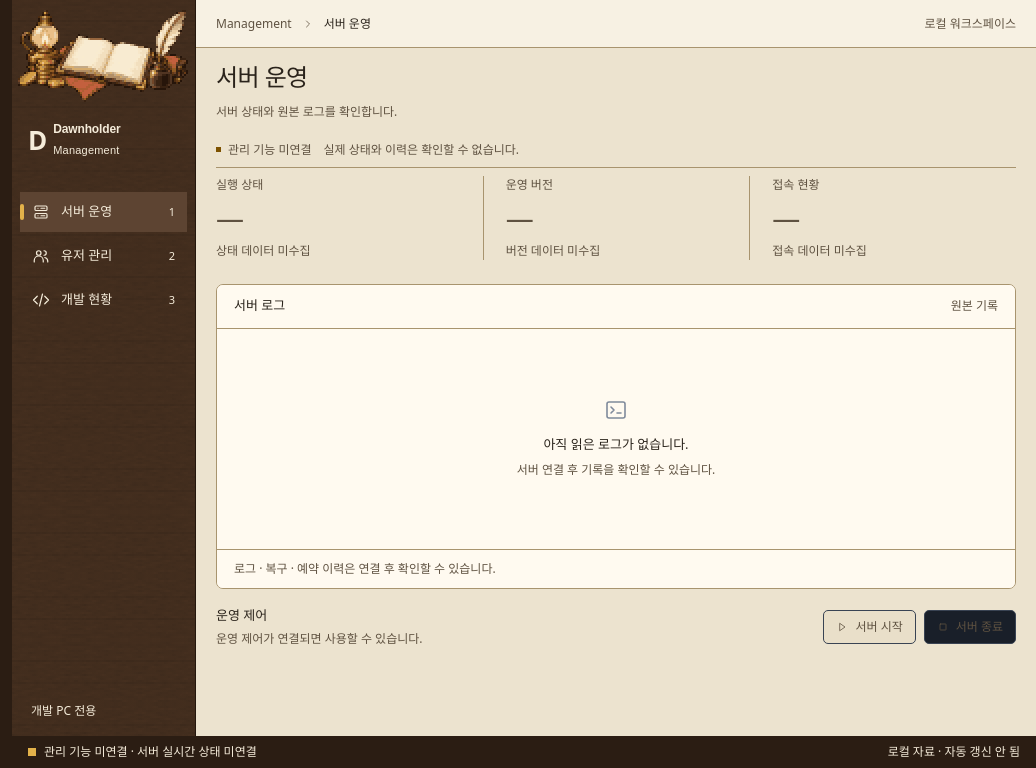
development backlog tab › shows the backlog screen under the third development tab 이후 작업
Click the button "3 개발 현황": (104, 300) [20,280,187,320]
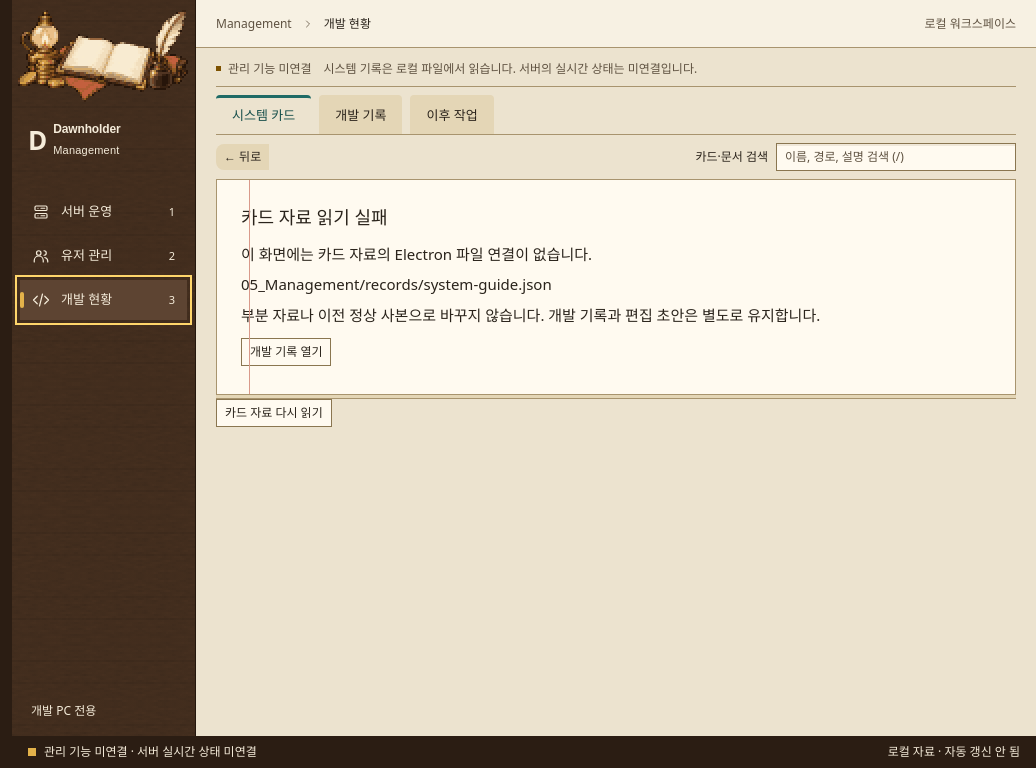
Expected: the buttons read "시스템 카드", "개발 기록", "이후 작업", in this order
Click the button "이후 작업": (452, 114) [410,95,494,134]
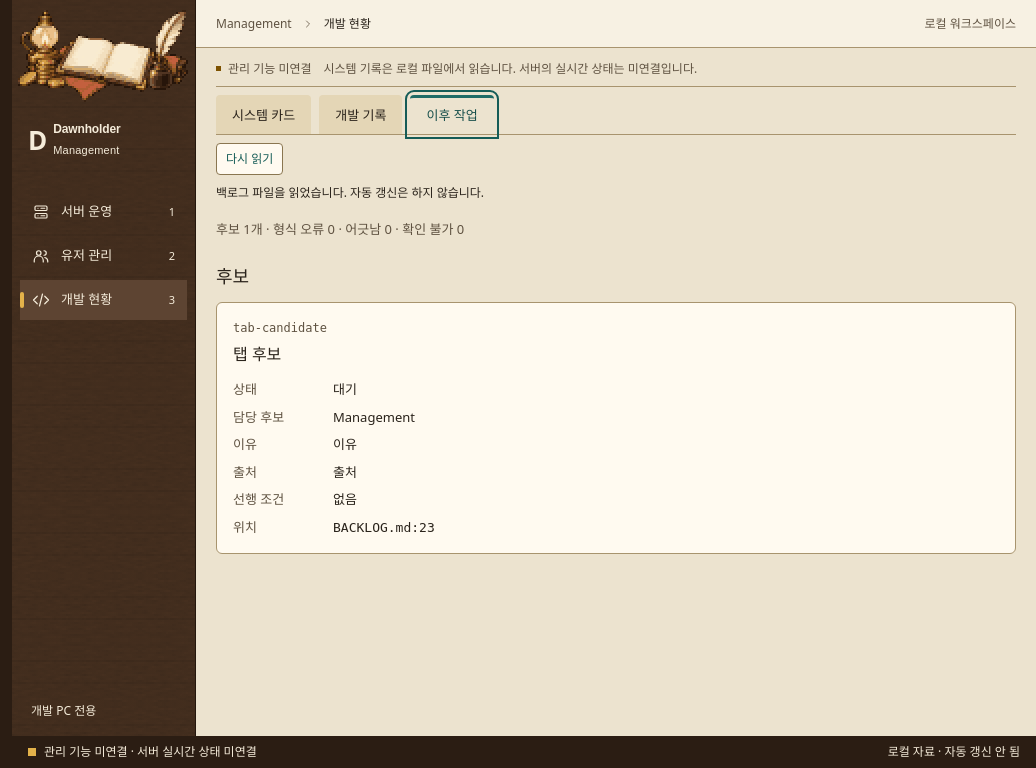
Expected: the button "다시 읽기" is shown, [216,142,283,174]
Expected: the text "tab-candidate" is shown, [233,321,327,335]
